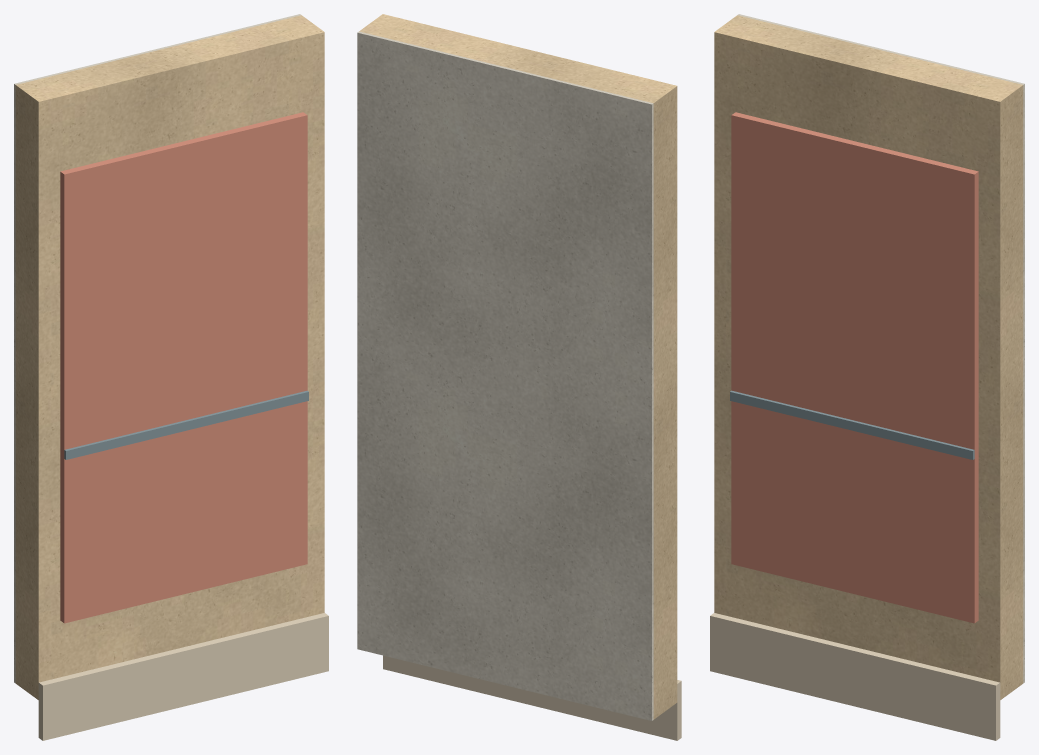
Rendered from wall_render_panel.glb.
The picture shows the model from 3 angles, left to right: view 1: azimuth 30°, elevation 25°; view 2: azimuth 150°, elevation 25°; view 3: azimuth 330°, elevation 25°; orthographic projection. The views are drawn at different scales.
Visible parts, largest first — view 1: wall_render_panel_panel, wall_render_panel_render, wall_render_panel_band, wall_render_panel_frame2, wall_render_panel_plaster; view 2: wall_render_panel_plaster, wall_render_panel_render, wall_render_panel_band; view 3: wall_render_panel_panel, wall_render_panel_render, wall_render_panel_band, wall_render_panel_frame2, wall_render_panel_plaster.
Part boxes in pixels (bbox=[...]): wall_render_panel_panel: bbox=[60, 112, 307, 623]; wall_render_panel_render: bbox=[15, 15, 324, 699]; wall_render_panel_band: bbox=[38, 613, 328, 740]; wall_render_panel_frame2: bbox=[64, 390, 308, 459]; wall_render_panel_plaster: bbox=[14, 14, 301, 683]; wall_render_panel_plaster: bbox=[357, 31, 653, 720]; wall_render_panel_render: bbox=[359, 14, 677, 719]; wall_render_panel_band: bbox=[383, 655, 681, 740]; wall_render_panel_panel: bbox=[731, 112, 978, 623]; wall_render_panel_render: bbox=[714, 15, 1023, 699]; wall_render_panel_band: bbox=[710, 613, 1000, 740]; wall_render_panel_frame2: bbox=[730, 390, 974, 459]; wall_render_panel_plaster: bbox=[737, 14, 1024, 683].
Bounding box in the file's own units: 2 × 4.25 × 0.37.
5 materials, 2 textured.
